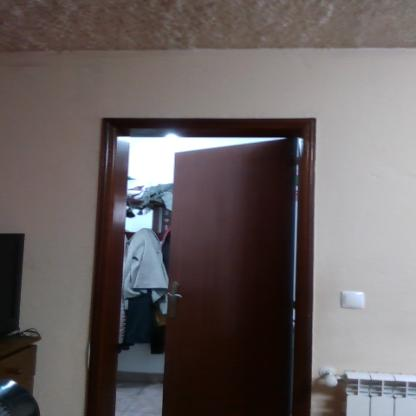semi: (80, 91, 317, 416)
